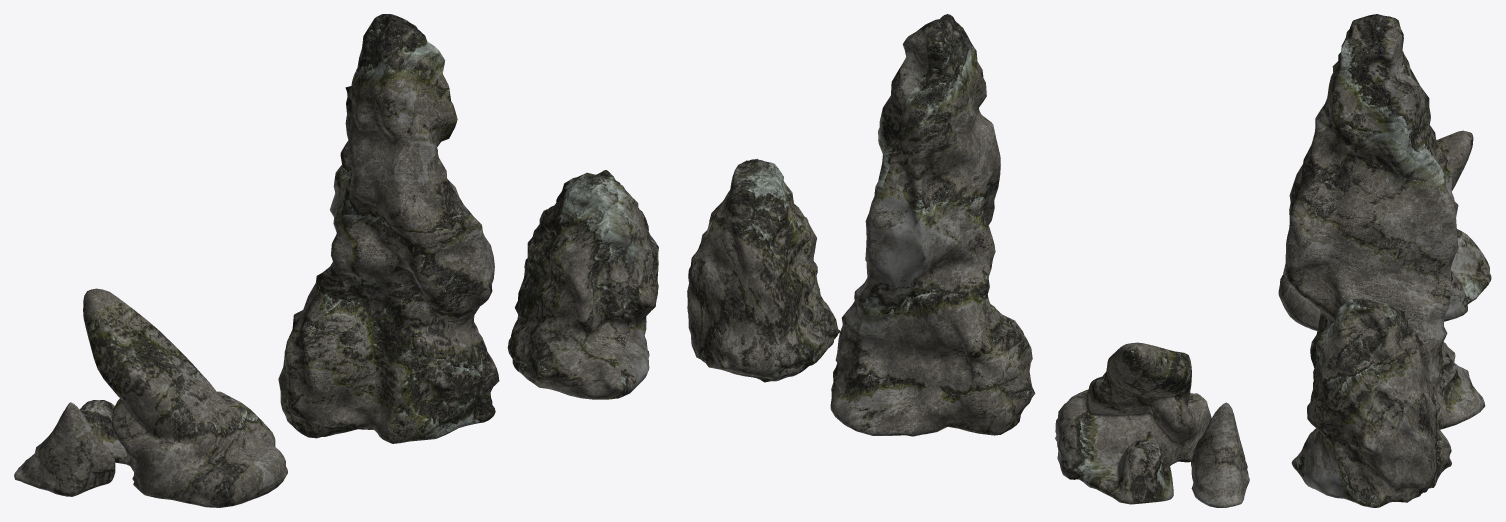
The picture shows the model from 3 angles, left to right: view 1: azimuth 30°, elevation 25°; view 2: azimuth 150°, elevation 25°; view 3: azimuth 270°, elevation 25°; orthographic projection. The views are drawn at different scales.
Parts seen in each view (by area): view 1: PM3D_Cube3D2_1, Merged_PM3D_Cube3D1_11, PM3D_Cube3D2; view 2: PM3D_Cube3D2_1, PM3D_Cube3D2, Merged_PM3D_Cube3D1_11; view 3: PM3D_Cube3D2_1, PM3D_Cube3D2, Merged_PM3D_Cube3D1_11.
Boxes of the visible parts, x1,y1,x2,y2 form: PM3D_Cube3D2_1: (278,14,499,443); Merged_PM3D_Cube3D1_11: (14,288,287,507); PM3D_Cube3D2: (507,170,658,399); PM3D_Cube3D2_1: (830,14,1035,436); PM3D_Cube3D2: (687,158,840,382); Merged_PM3D_Cube3D1_11: (1055,342,1249,507); PM3D_Cube3D2_1: (1283,14,1485,429); PM3D_Cube3D2: (1291,298,1451,507); Merged_PM3D_Cube3D1_11: (1278,130,1491,330).
Size of the model in its own units: 0.0306 by 0.0195 by 0.00983.
Materials: 3 (3 with a texture image).
